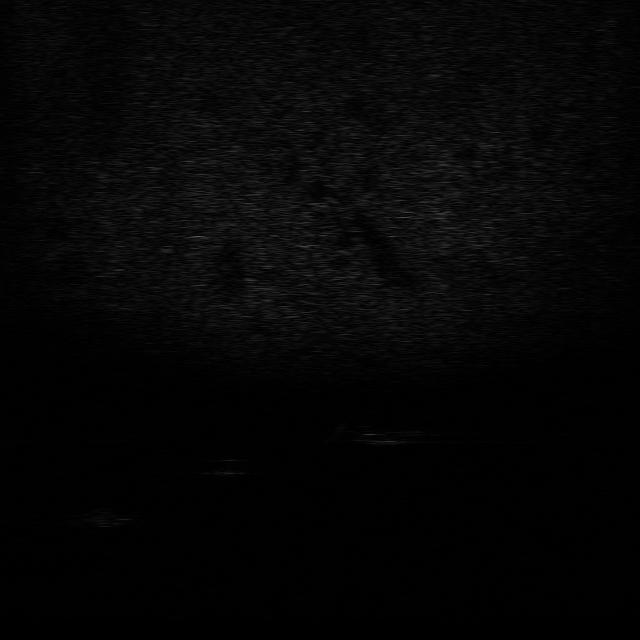ball: (205, 454, 249, 478)
circle cage: (56, 502, 138, 530)
human body: (319, 421, 435, 449)
